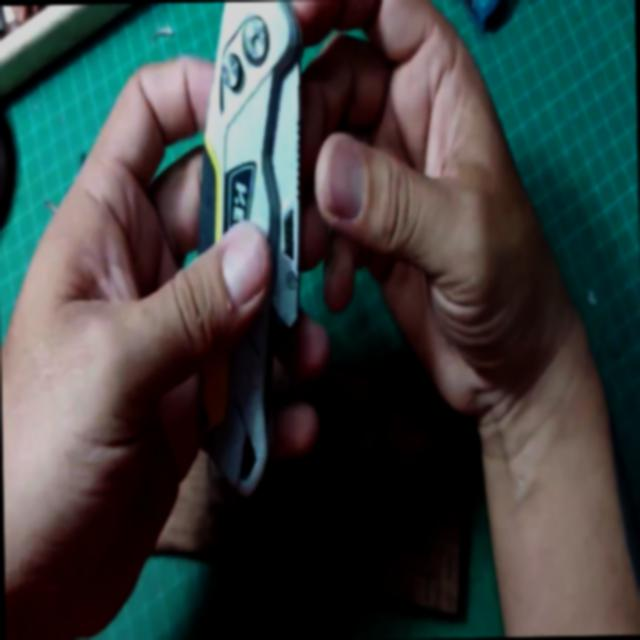cutter: (0, 0, 619, 569)
